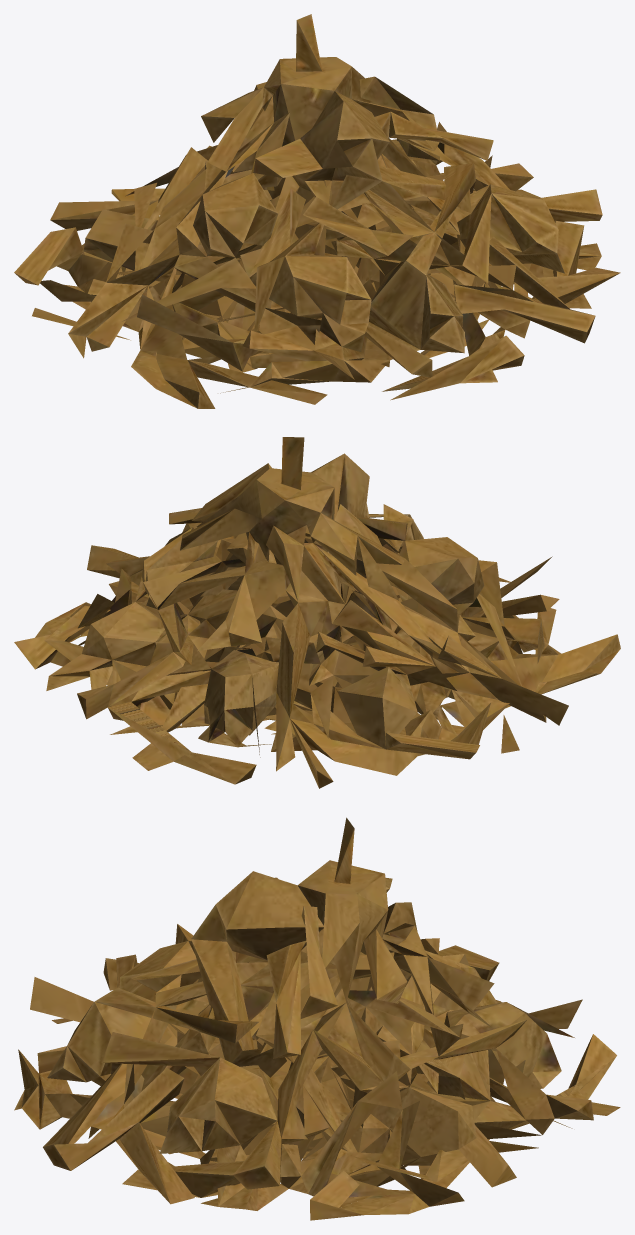
The model's file is rubble.glb.
3 views of the same model, one above another, from view 1: azimuth 30°, elevation 25°; view 2: azimuth 150°, elevation 25°; view 3: azimuth 270°, elevation 25° (orthographic). The views are drawn at different scales.
Bounding box in the file's own units: 1.84 × 0.8979 × 1.8.
1 material, 1 textured.
